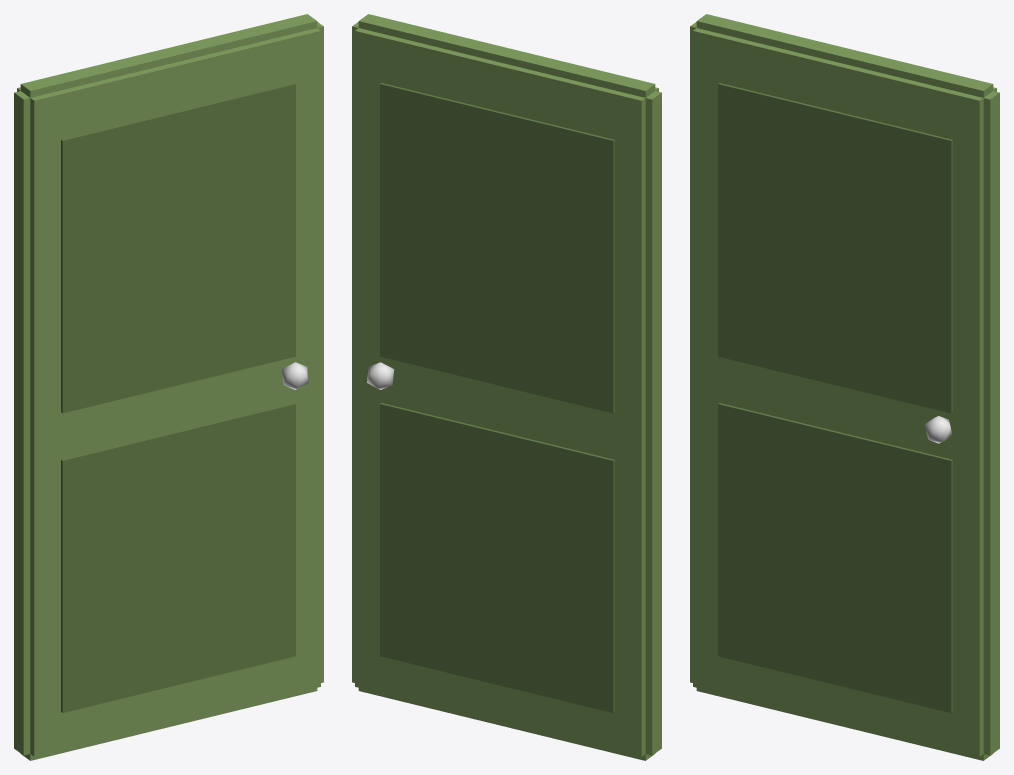
File: cactus_door_v0.glb
3 views of the same model, side by side, from view 1: azimuth 30°, elevation 25°; view 2: azimuth 150°, elevation 25°; view 3: azimuth 330°, elevation 25° (orthographic).
Visible parts, largest first — view 1: cactus_door_v0; view 2: cactus_door_v0; view 3: cactus_door_v0.
Boxes of the visible parts, x1,y1,x2,y2 form: cactus_door_v0: (14,14,323,760); cactus_door_v0: (352,14,661,760); cactus_door_v0: (690,14,999,760).
Bounding box in the file's own units: 0.9 × 1.92 × 0.2381.
